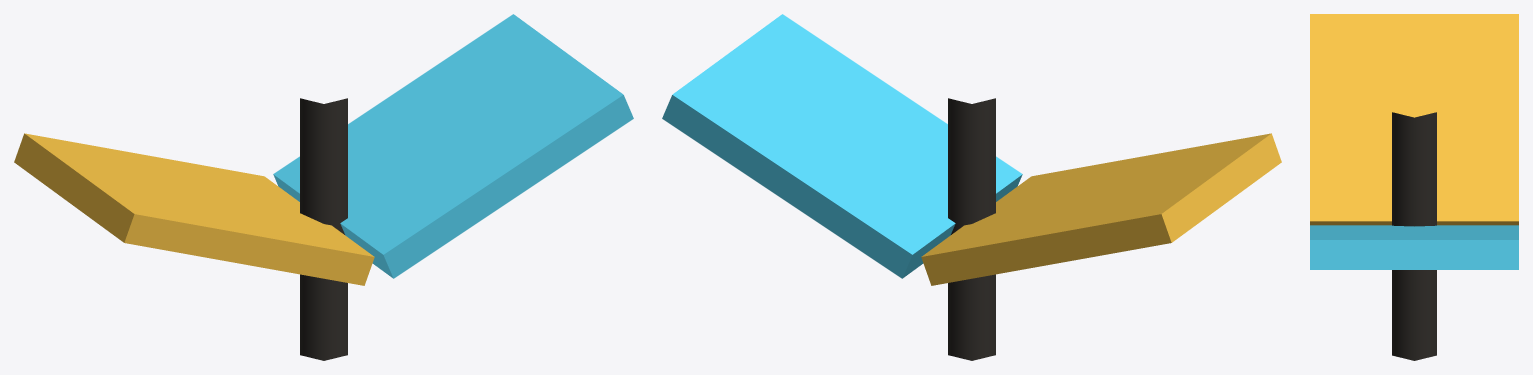
The model's file is butterfly.glb.
3 views of the same model, side by side, from view 1: azimuth 30°, elevation 25°; view 2: azimuth 150°, elevation 25°; view 3: azimuth 270°, elevation 25° (orthographic). The views are drawn at different scales.
Parts seen in each view (by area): view 1: butterfly; view 2: butterfly; view 3: butterfly.
Boxes of the visible parts, left/top/right/bottom form: butterfly: left=14, top=14, right=633, bottom=360; butterfly: left=662, top=14, right=1281, bottom=360; butterfly: left=1310, top=14, right=1518, bottom=360.
Size of the model in its own units: 0.7473 by 0.36 by 0.28.
